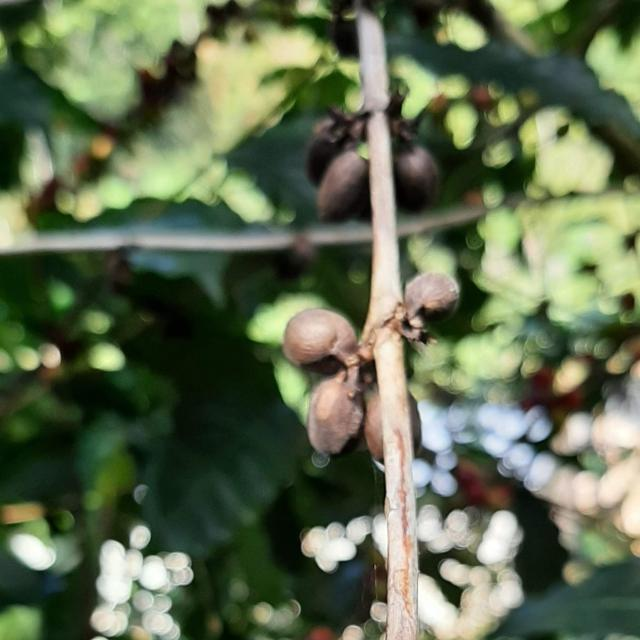red: (307, 371, 364, 455), (282, 309, 359, 366), (317, 149, 369, 221), (395, 146, 441, 211), (305, 116, 343, 185), (406, 273, 460, 321), (364, 393, 384, 462), (408, 393, 421, 452)
